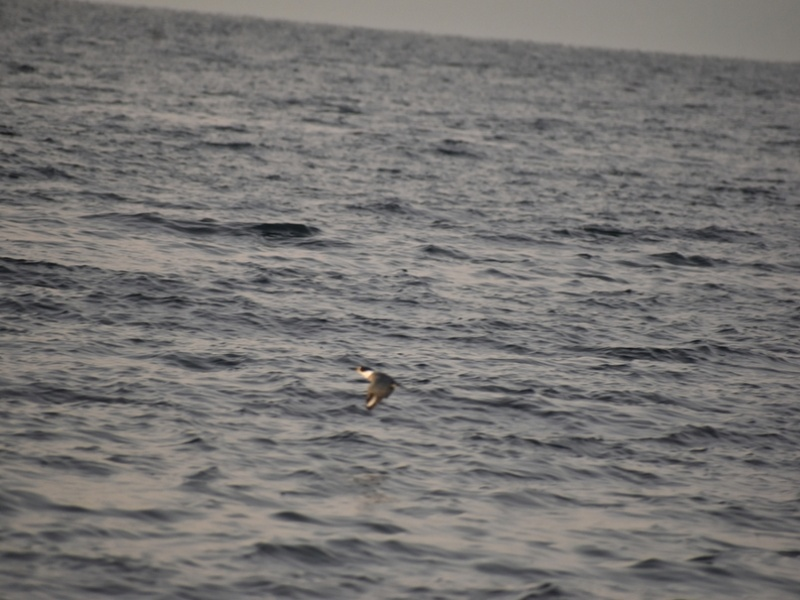kingfisher: (349, 364, 405, 411)
